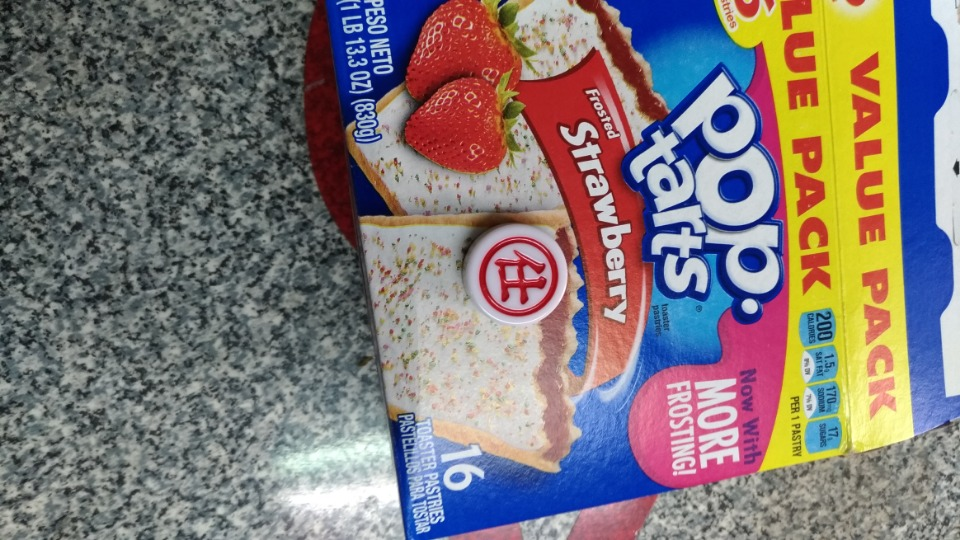r-advisor: (445, 215, 590, 334)
